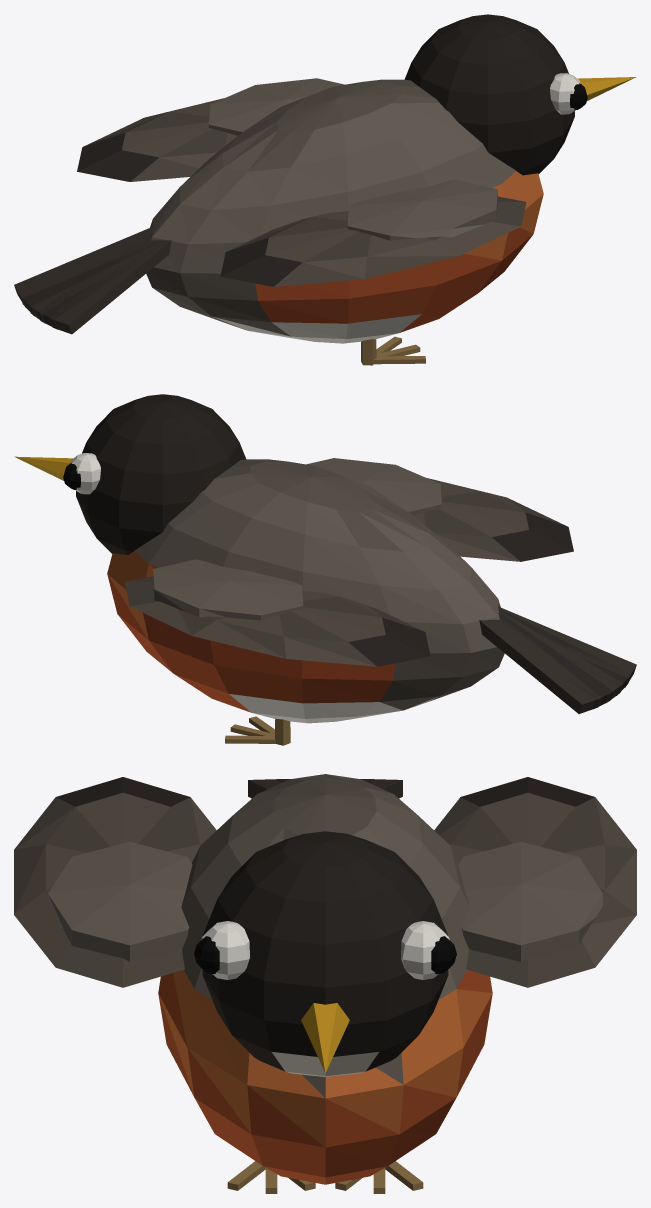
The model's file is creatures-robin.glb.
3 views of the same model, one above another, from view 1: azimuth 30°, elevation 25°; view 2: azimuth 150°, elevation 25°; view 3: azimuth 270°, elevation 25° (orthographic). The views are drawn at different scales.
Bounding box in the file's own units: 2.91 × 1.35 × 1.85.
